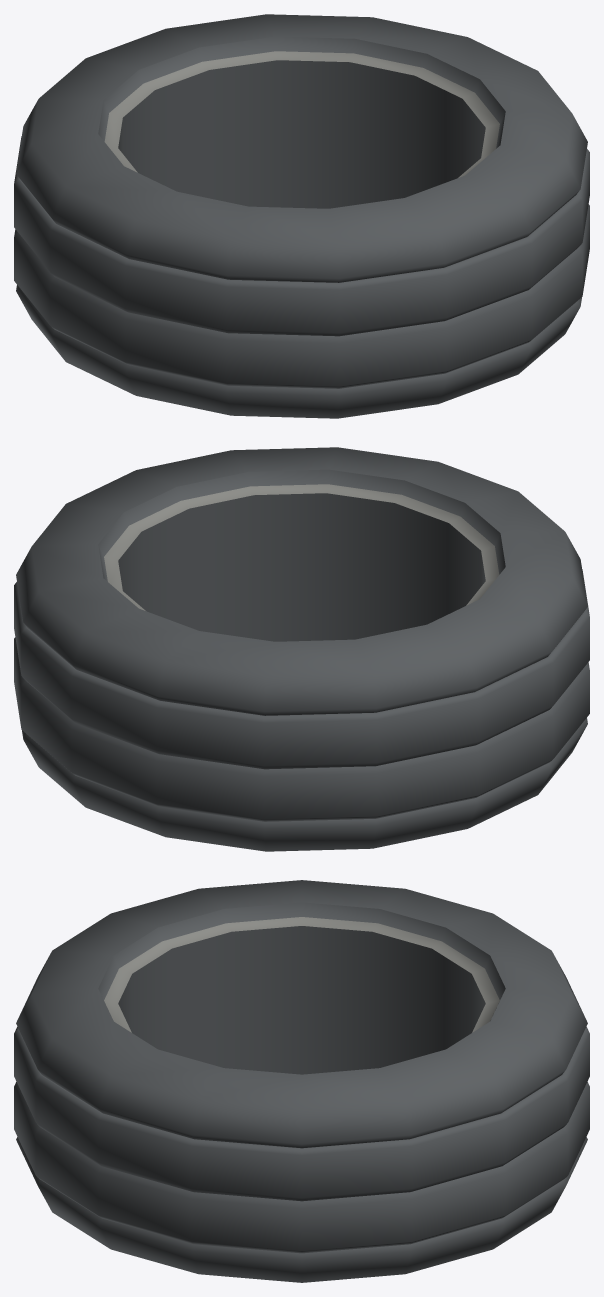
File: prop-wheel-stack-bare.glb
3 views of the same model, one above another, from view 1: azimuth 30°, elevation 25°; view 2: azimuth 150°, elevation 25°; view 3: azimuth 270°, elevation 25° (orthographic).
Visible parts, largest first — view 1: Wheel; view 2: Wheel; view 3: Wheel.
Boxes of the visible parts, box(x1,y1,x2,y2) form: Wheel: box(14, 14, 589, 418); Wheel: box(14, 447, 589, 851); Wheel: box(14, 880, 589, 1282).
Bounding box in the file's own units: 0.573 × 0.2041 × 0.573.
Materials: 1 (1 with a texture image).
